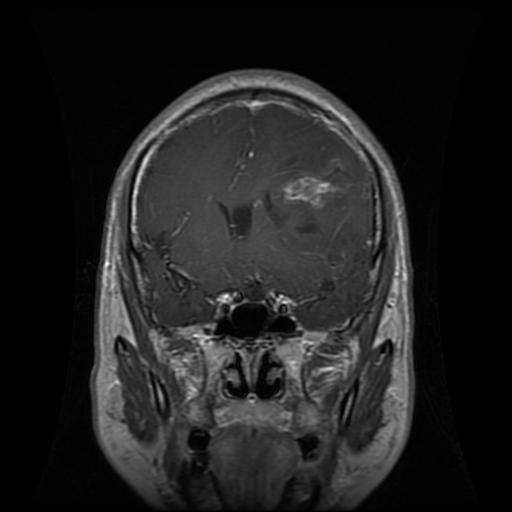Gliomia_tumour: (260, 152, 354, 239)
